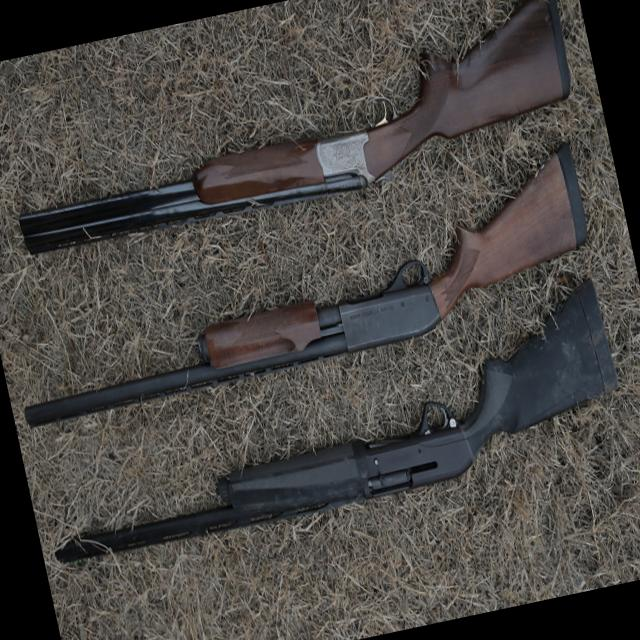Weapon: (14, 274, 638, 578), (0, 133, 610, 434), (0, 0, 591, 264)
